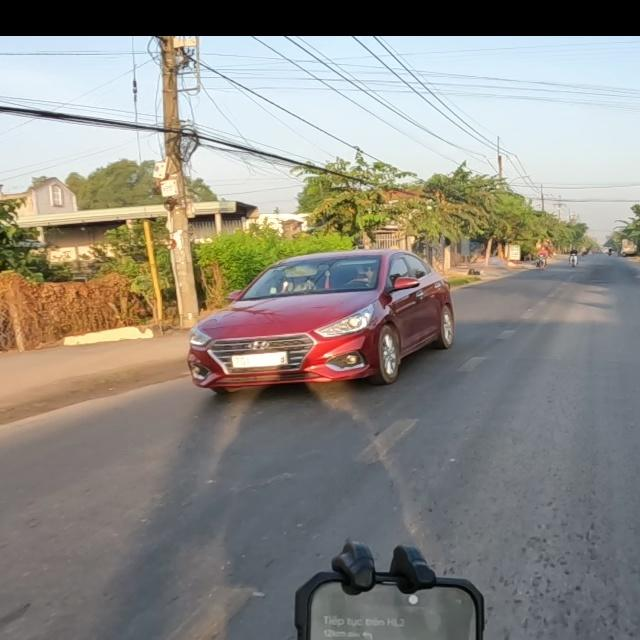license-plate: (230, 351, 287, 369)
